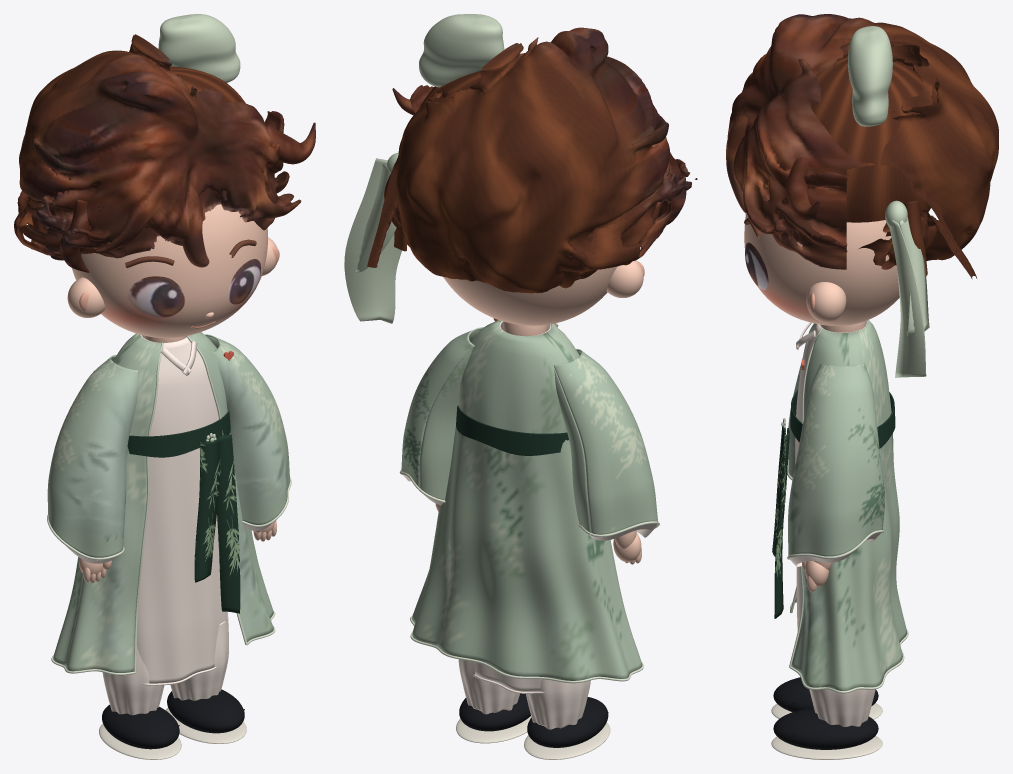
Rendered from ade.glb.
The picture shows the model from 3 angles, left to right: view 1: azimuth 30°, elevation 25°; view 2: azimuth 150°, elevation 25°; view 3: azimuth 270°, elevation 25°; orthographic projection. The views are drawn at different scales.
Parts seen in each view (by area): view 1: Reference layered hair, Ivory inner garment, Flowing open bamboo coat, Soft bell sleeve -1, Soft tapered face, Soft bell sleeve 1, Single folded pale sage cap, Woven sash right, Woven sash left, Black cloth shoe -1, Black cloth shoe 1, Loose trouser hem -1 (+12 smaller); view 2: Reference layered hair, Flowing open bamboo coat, Soft bell sleeve -1, Soft bell sleeve 1, Soft tapered face, Single folded pale sage cap, Long sage ribbon, Slim waist band, Loose trouser hem -1, Black cloth shoe -1, Loose trouser hem 1, Black cloth shoe 1 (+7 smaller); view 3: Reference layered hair, Flowing open bamboo coat, Soft bell sleeve 1, Continuous hair underlayer, Soft tapered face, Single folded pale sage cap, Long sage ribbon, Black cloth shoe 1, Loose trouser hem 1, Thin ivory sole 1, Right raised temple curl, Short sage ribbon (+9 smaller).
Boxes of the visible parts, bbox=[...] form: Reference layered hair: bbox=[14, 34, 301, 260]; Ivory inner garment: bbox=[136, 335, 227, 683]; Flowing open bamboo coat: bbox=[53, 332, 273, 672]; Soft bell sleeve -1: bbox=[47, 355, 138, 557]; Soft tapered face: bbox=[72, 204, 267, 338]; Soft bell sleeve 1: bbox=[204, 334, 290, 524]; Single folded pale sage cap: bbox=[158, 14, 240, 82]; Woven sash right: bbox=[216, 434, 240, 613]; Woven sash left: bbox=[194, 438, 220, 582]; Black cloth shoe -1: bbox=[102, 704, 179, 749]; Black cloth shoe 1: bbox=[167, 689, 244, 733]; Loose trouser hem -1: bbox=[102, 646, 164, 715]; Reference layered hair: bbox=[367, 27, 697, 293]; Flowing open bamboo coat: bbox=[411, 320, 642, 680]; Soft bell sleeve -1: bbox=[554, 349, 658, 534]; Soft bell sleeve 1: bbox=[401, 327, 484, 500]; Soft tapered face: bbox=[443, 266, 616, 325]; Single folded pale sage cap: bbox=[419, 14, 504, 87]; Long sage ribbon: bbox=[344, 158, 401, 323]; Slim waist band: bbox=[456, 405, 569, 455]; Loose trouser hem -1: bbox=[526, 679, 590, 729]; Black cloth shoe -1: bbox=[527, 697, 608, 747]; Loose trouser hem 1: bbox=[458, 659, 519, 714]; Black cloth shoe 1: bbox=[459, 693, 530, 731]; Reference layered hair: bbox=[727, 14, 998, 279]; Flowing open bamboo coat: bbox=[791, 320, 907, 690]; Soft bell sleeve 1: bbox=[788, 362, 884, 556]; Continuous hair underlayer: bbox=[810, 55, 930, 236]; Soft tapered face: bbox=[744, 212, 899, 325]; Single folded pale sage cap: bbox=[848, 26, 892, 126]; Long sage ribbon: bbox=[889, 220, 926, 377]; Black cloth shoe 1: bbox=[773, 708, 878, 749]; Loose trouser hem 1: bbox=[809, 689, 875, 726]; Thin ivory sole 1: bbox=[771, 736, 882, 759]; Right raised temple curl: bbox=[785, 157, 820, 220]; Short sage ribbon: bbox=[899, 217, 929, 335].
Bounding box in the file's own units: 0.9641 × 2.29 × 0.7938.
18 materials, 5 textured.
